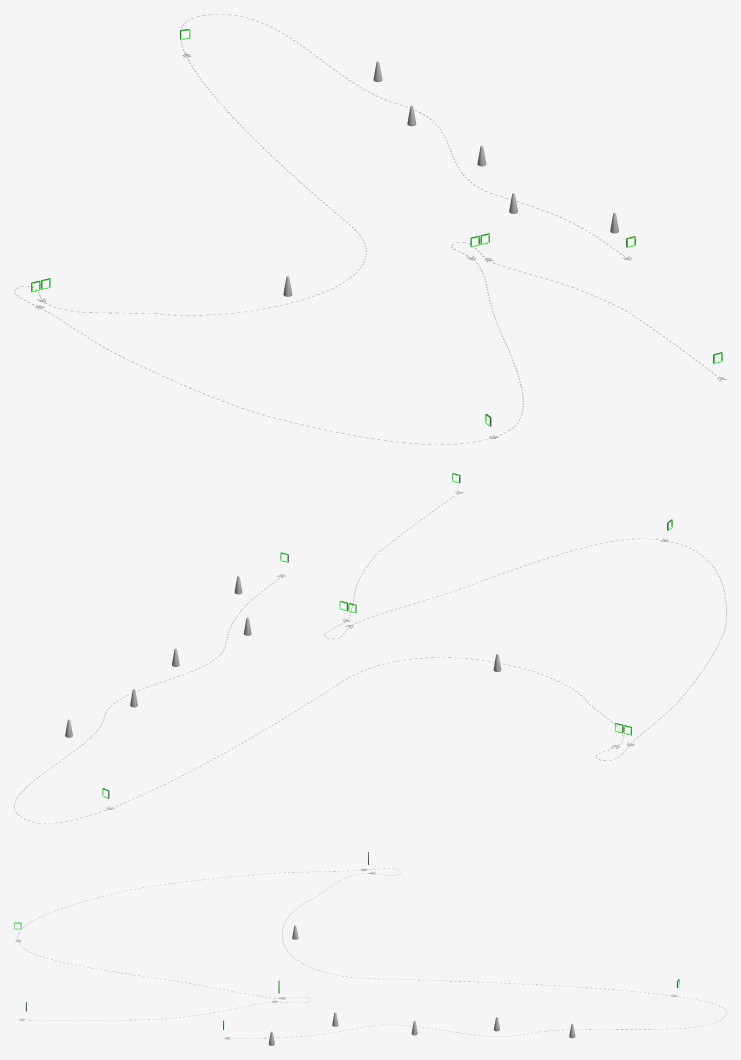
Rendered from level_stadion.fbx.
3 renders of one model, top to bottom at view 1: azimuth 30°, elevation 25°; view 2: azimuth 150°, elevation 25°; view 3: azimuth 270°, elevation 25°, orthographic. The views are drawn at different scales.
Visible parts, largest first — view 1: Cube.002; view 2: Cube.002; view 3: Cube.002.
Part boxes in pixels (<box>): Cube.002: <box>14,14,716,444</box>; Cube.002: <box>14,496,726,823</box>; Cube.002: <box>17,868,726,1038</box>.
Bounding box in the file's own units: 5751 × 254 × 9770.
